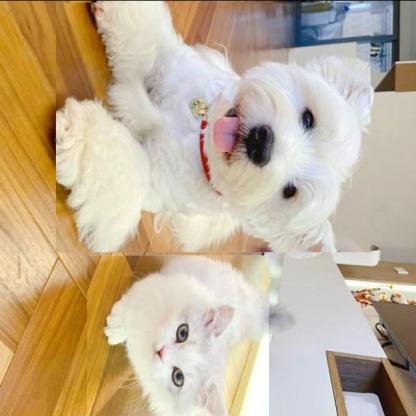cat: (87, 255, 269, 416)
dog: (56, 3, 370, 252)
